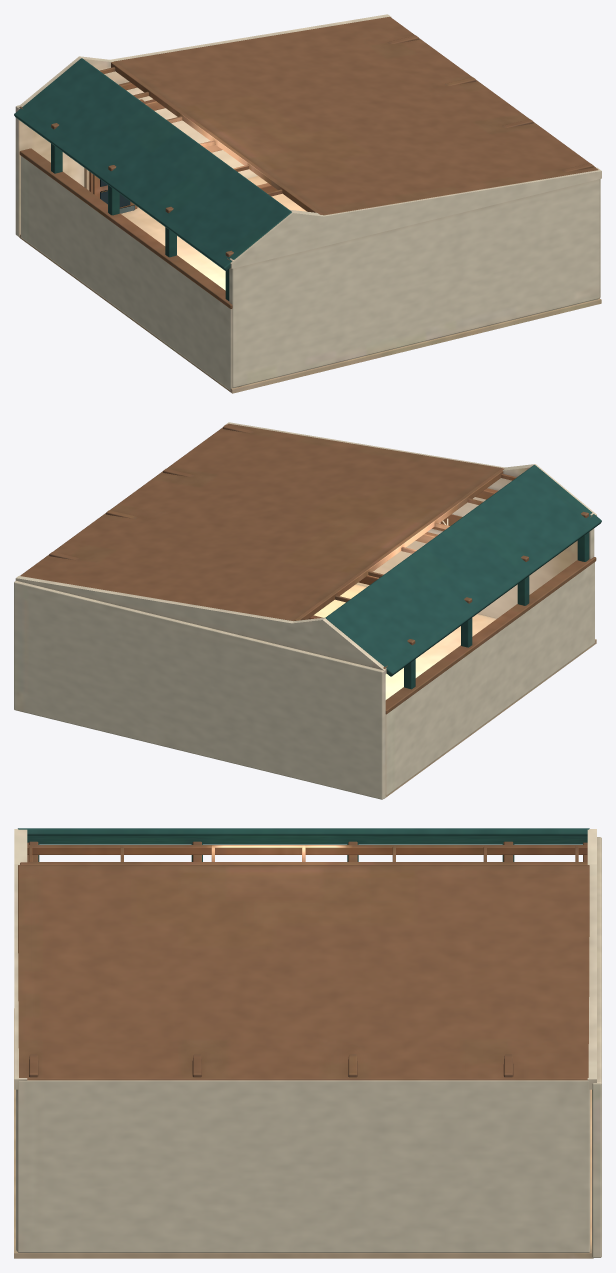
The model's file is gallery-sealed.glb.
3 views of the same model, one above another, from view 1: azimuth 30°, elevation 25°; view 2: azimuth 150°, elevation 25°; view 3: azimuth 270°, elevation 25° (orthographic). The views are drawn at different scales.
Parts seen in each view (by area): view 1: VIS · Collection gallery; view 2: VIS · Collection gallery; view 3: VIS · Collection gallery.
Part boxes in pixels (x1,y1,x2,y2): VIS · Collection gallery: [14, 14, 601, 393]; VIS · Collection gallery: [14, 422, 601, 799]; VIS · Collection gallery: [14, 828, 601, 1258].
Bounding box in the file's own units: 12.03 × 5.06 × 11.95.
Materials: 10 (9 with a texture image).
